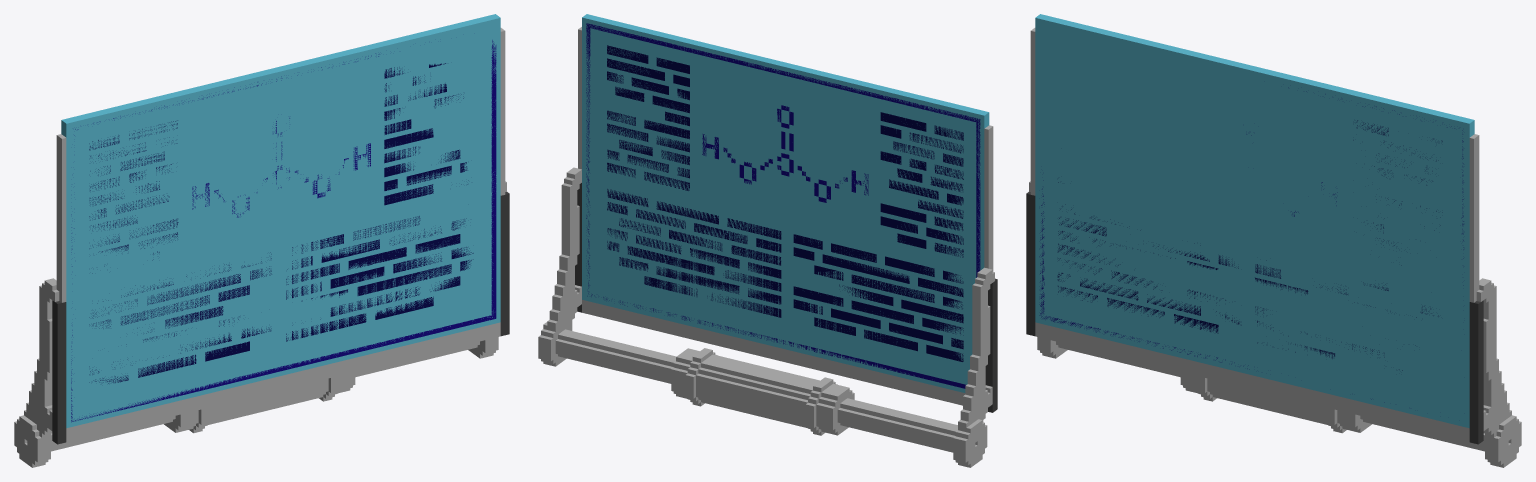
3 views of the same model, side by side, from view 1: azimuth 30°, elevation 25°; view 2: azimuth 150°, elevation 25°; view 3: azimuth 330°, elevation 25° (orthographic). The views are drawn at different scales.
Visible parts, largest first — view 1: Monitor3-2-7, Monitor3-2-7.001, Monitor3-2-8; view 2: Monitor3-2-7, Monitor3-2-8, Monitor3-2-7.001; view 3: Monitor3-2-7, Monitor3-2-7.001, Monitor3-2-8.
Boxes of the visible parts, <box> form: Monitor3-2-7: <box>61,14,500,428</box>; Monitor3-2-7.001: <box>14,28,509,467</box>; Monitor3-2-8: <box>71,40,496,422</box>; Monitor3-2-7: <box>582,14,989,392</box>; Monitor3-2-8: <box>586,23,980,388</box>; Monitor3-2-7.001: <box>538,27,997,467</box>; Monitor3-2-7: <box>1035,14,1474,428</box>; Monitor3-2-7.001: <box>1026,28,1521,467</box>; Monitor3-2-8: <box>1039,87,1463,402</box>.
Size of the model in its own units: 10.3 by 7.7 by 1.6.
